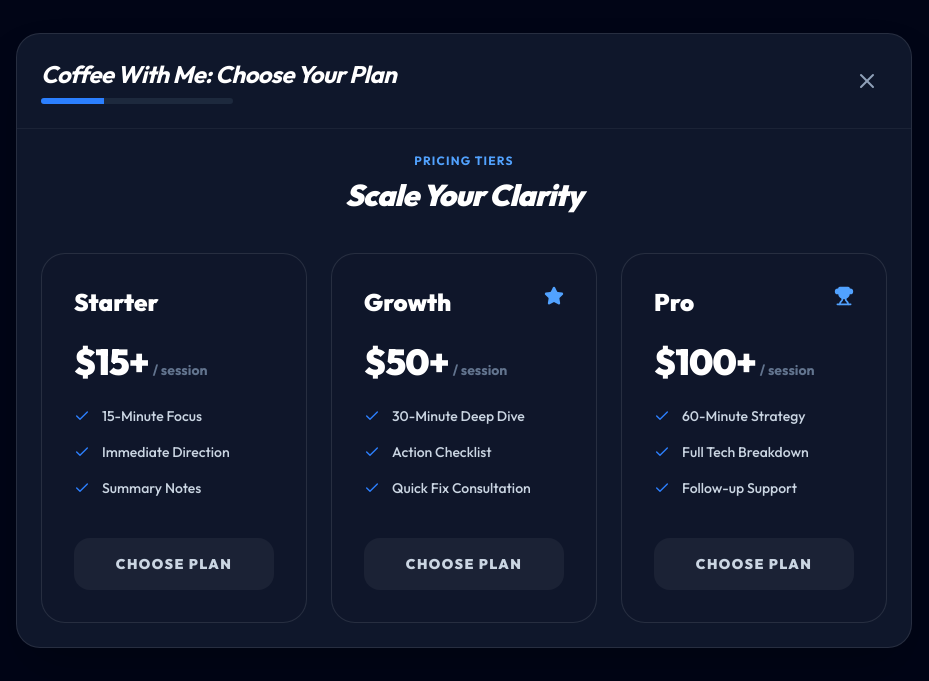
Test: CoffeeMeModal Component (Consultancy Journey Integration) › allows going back through the journey
The image size is (929, 681).
# To Step 2
Click the heading "Growth" at (408, 302), box [364,286,451,318]
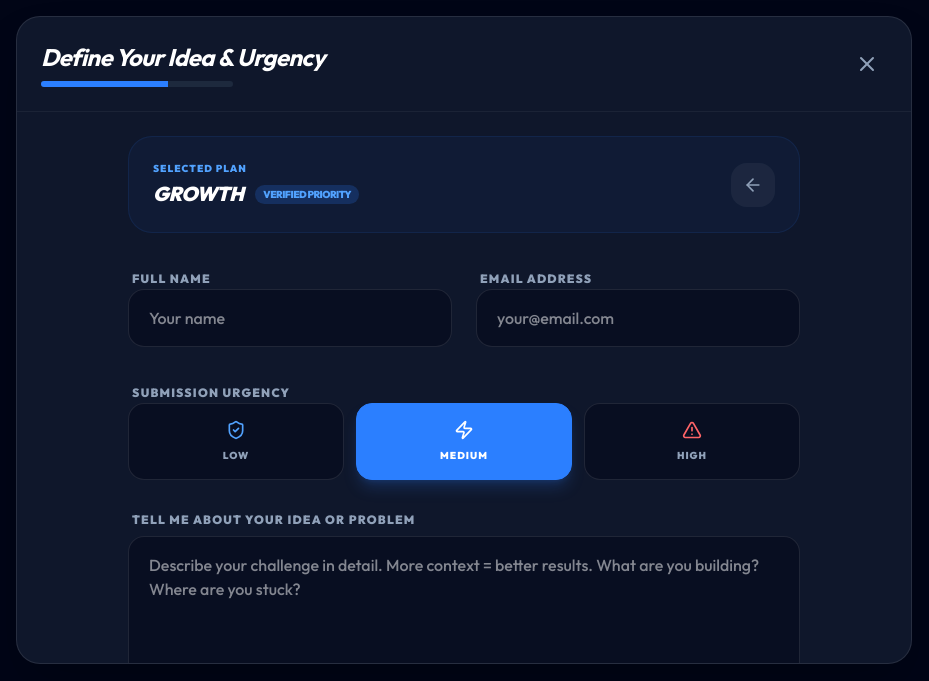
Now the heading "Define Your Idea & Urgency" is shown, box [41,41,325,73]
# Back to Step 1
Click the button named "Back to Plans" at (753, 184), box [731,162,775,206]
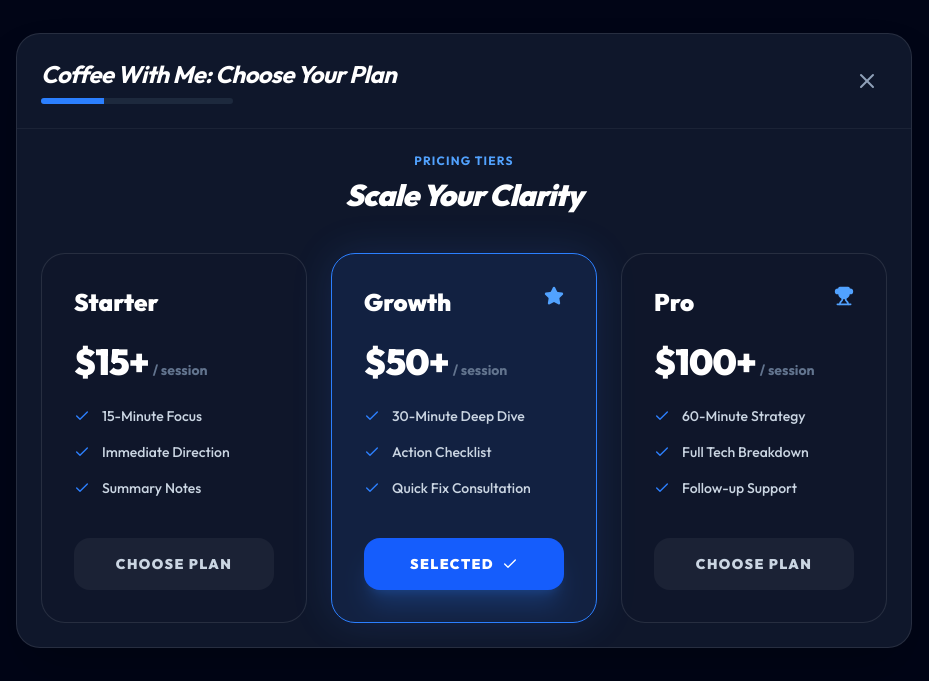
Now the heading "Coffee With Me: Choose Your Plan" is shown, box [41,58,396,90]
